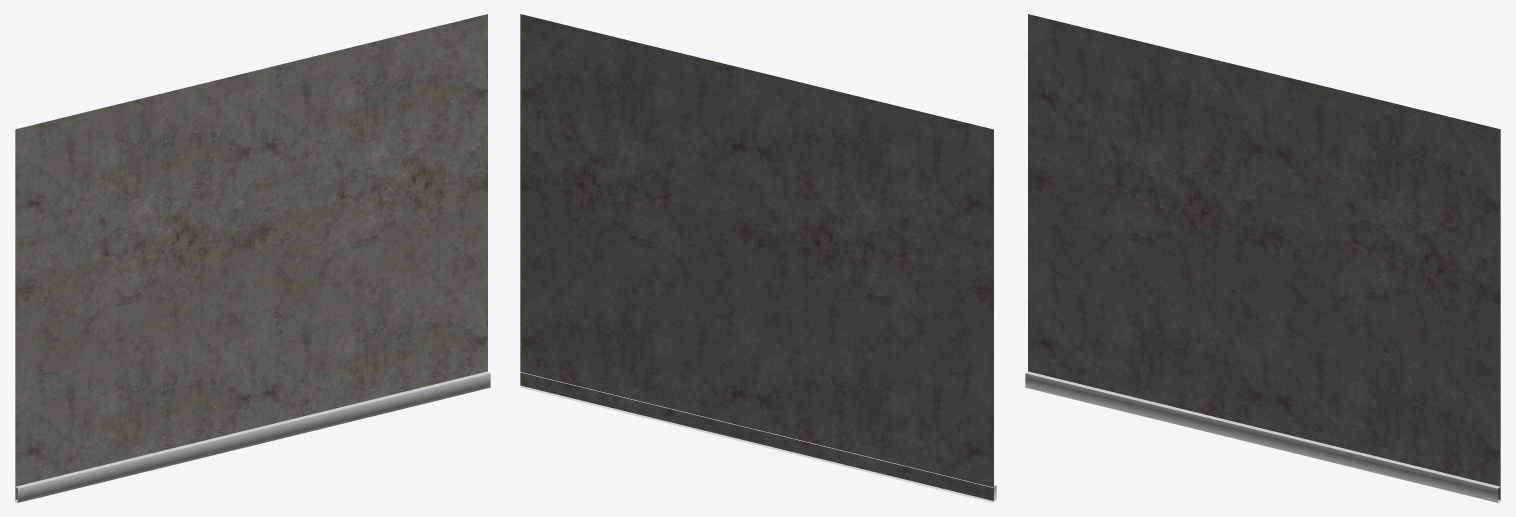
File: Wall_4x3.fbx
3 renders of one model, left to right at view 1: azimuth 30°, elevation 25°; view 2: azimuth 150°, elevation 25°; view 3: azimuth 330°, elevation 25°, orthographic.
Visible parts, largest first — view 1: polySurface282; view 2: polySurface282; view 3: polySurface282.
Boxes of the visible parts, x1=… form: polySurface282: x1=14, y1=14, x2=490, y2=502; polySurface282: x1=519, y1=14, x2=996, y2=502; polySurface282: x1=1025, y1=14, x2=1501, y2=502.
Size of the model in its own units: 4 by 3.01 by 0.0545.
